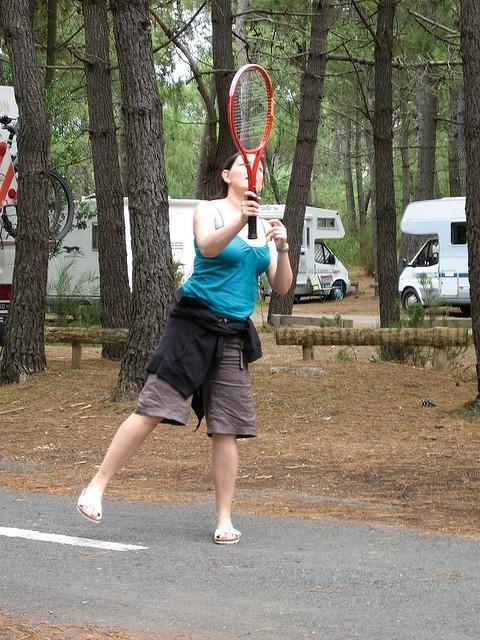bicycle: (0, 114, 74, 246)
truck: (46, 192, 352, 322), (398, 196, 474, 317)
